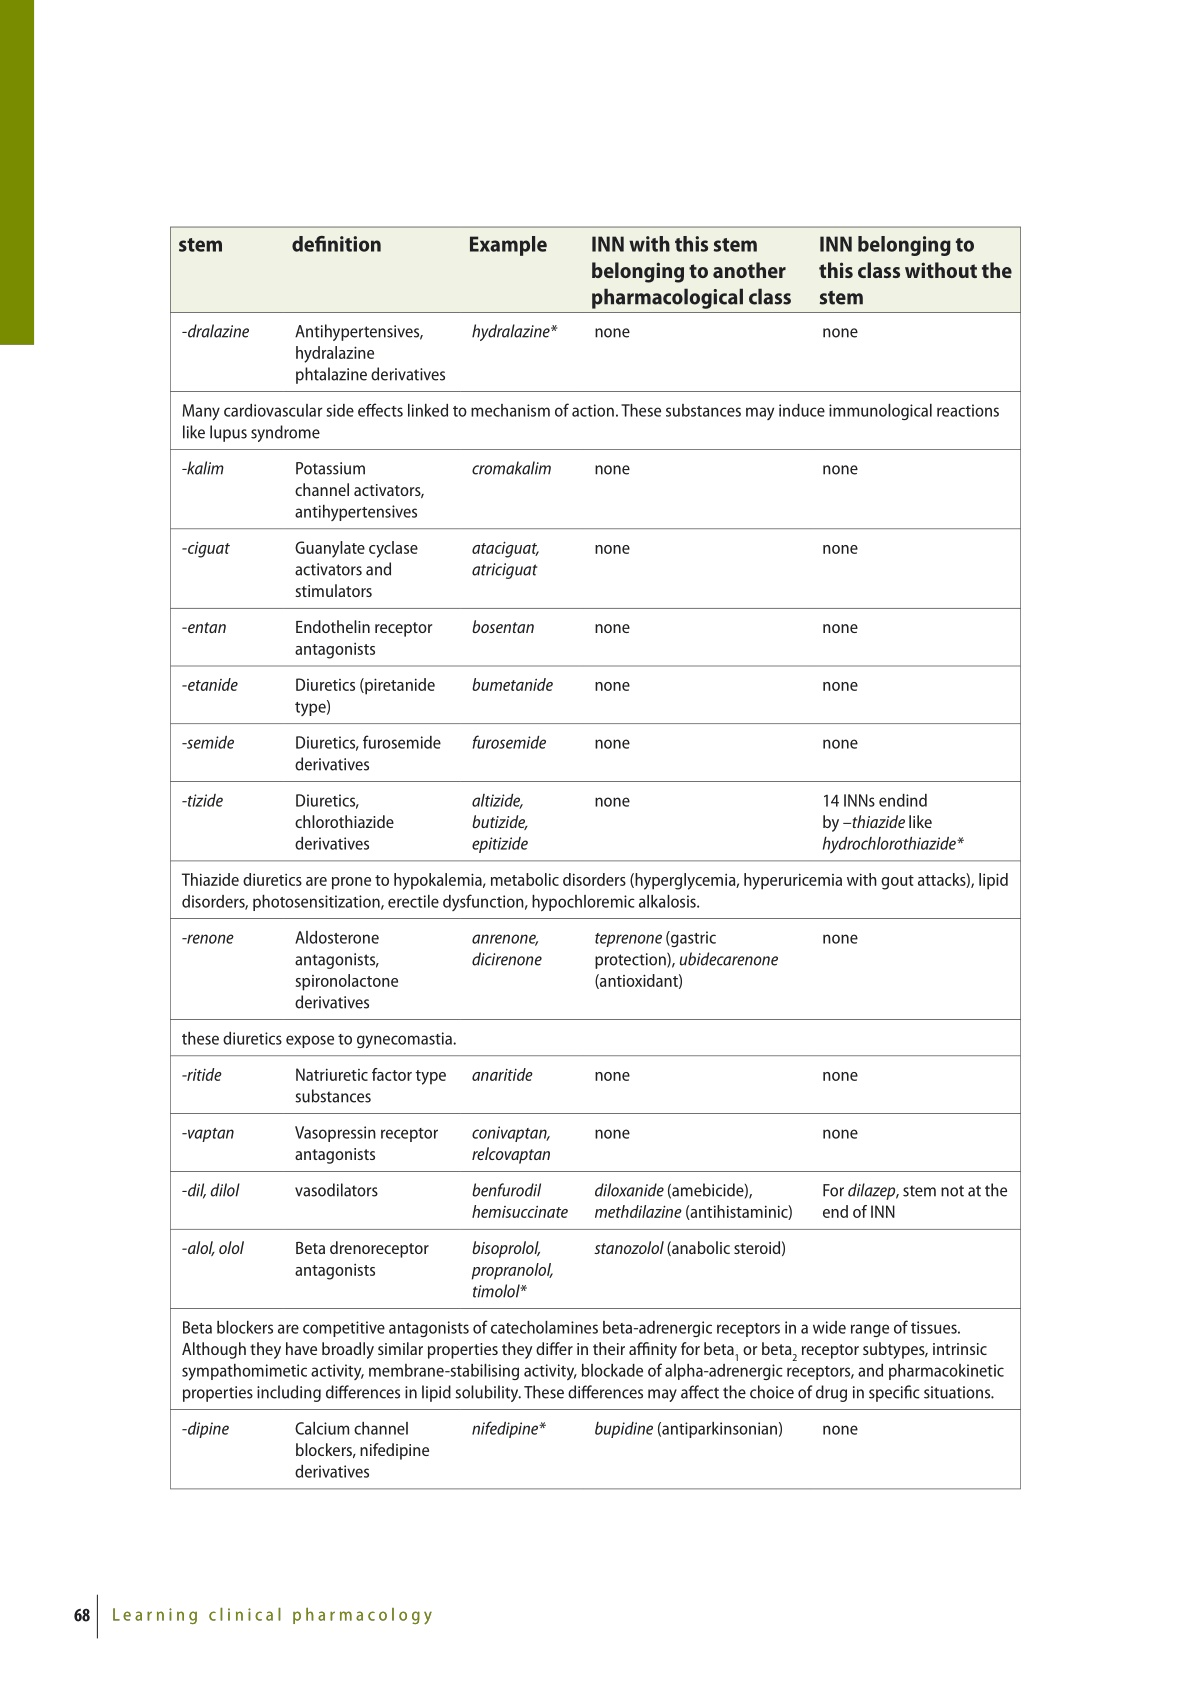partial_lined_merged_cells: (169, 224, 1022, 1491)
